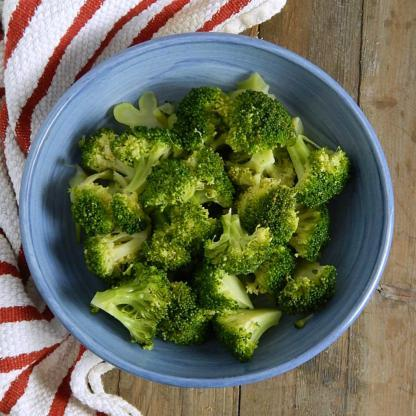broccoli: (61, 72, 353, 364)
